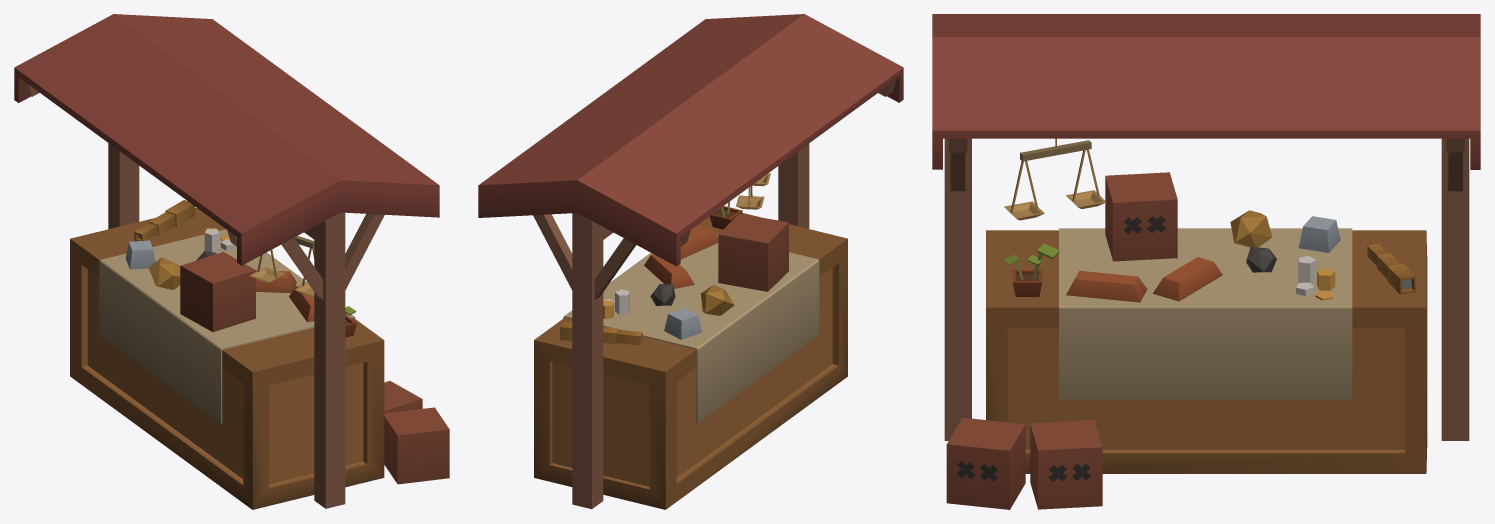
Rendered from merchanthub2.glb.
The picture shows the model from 3 angles, left to right: view 1: azimuth 30°, elevation 25°; view 2: azimuth 150°, elevation 25°; view 3: azimuth 270°, elevation 25°; orthographic projection. The views are drawn at different scales.
Parts seen in each view (by area): view 1: Cube.013; view 2: Cube.013; view 3: Cube.013.
Boxes of the visible parts, x1,y1,x2,y2 form: Cube.013: [14, 14, 449, 509]; Cube.013: [478, 14, 903, 509]; Cube.013: [932, 14, 1480, 509].
Size of the model in its own units: 1.71 by 2.4 by 2.99.
